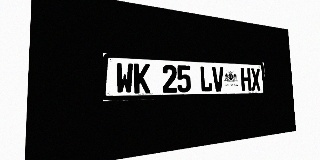2: (162, 64, 177, 93)
5: (177, 65, 191, 92)
H: (240, 68, 251, 91)
K: (134, 63, 150, 94)
L: (200, 66, 213, 92)
V: (212, 66, 224, 92)
W: (116, 63, 133, 94)
X: (250, 68, 261, 91)
